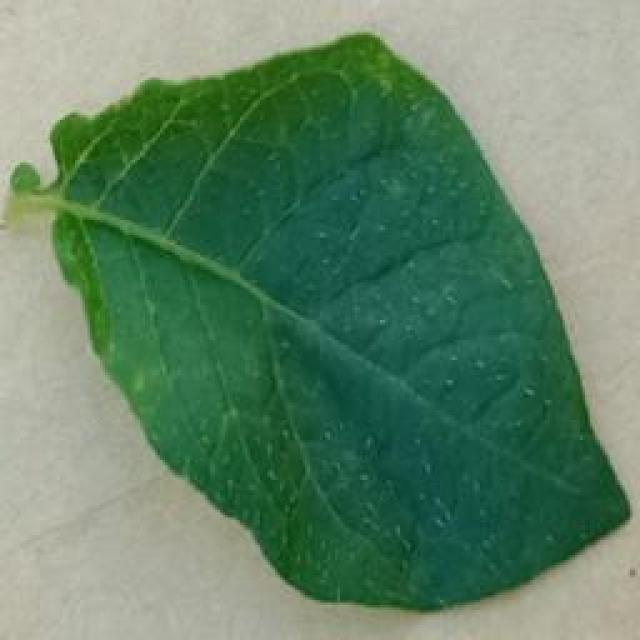Potato_Healthy: (6, 34, 622, 612)
